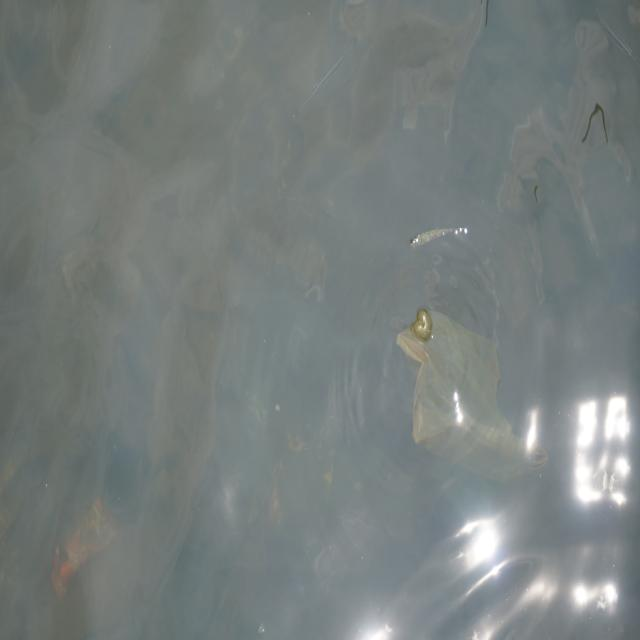Kantong Plastik: (395, 302, 552, 485)
